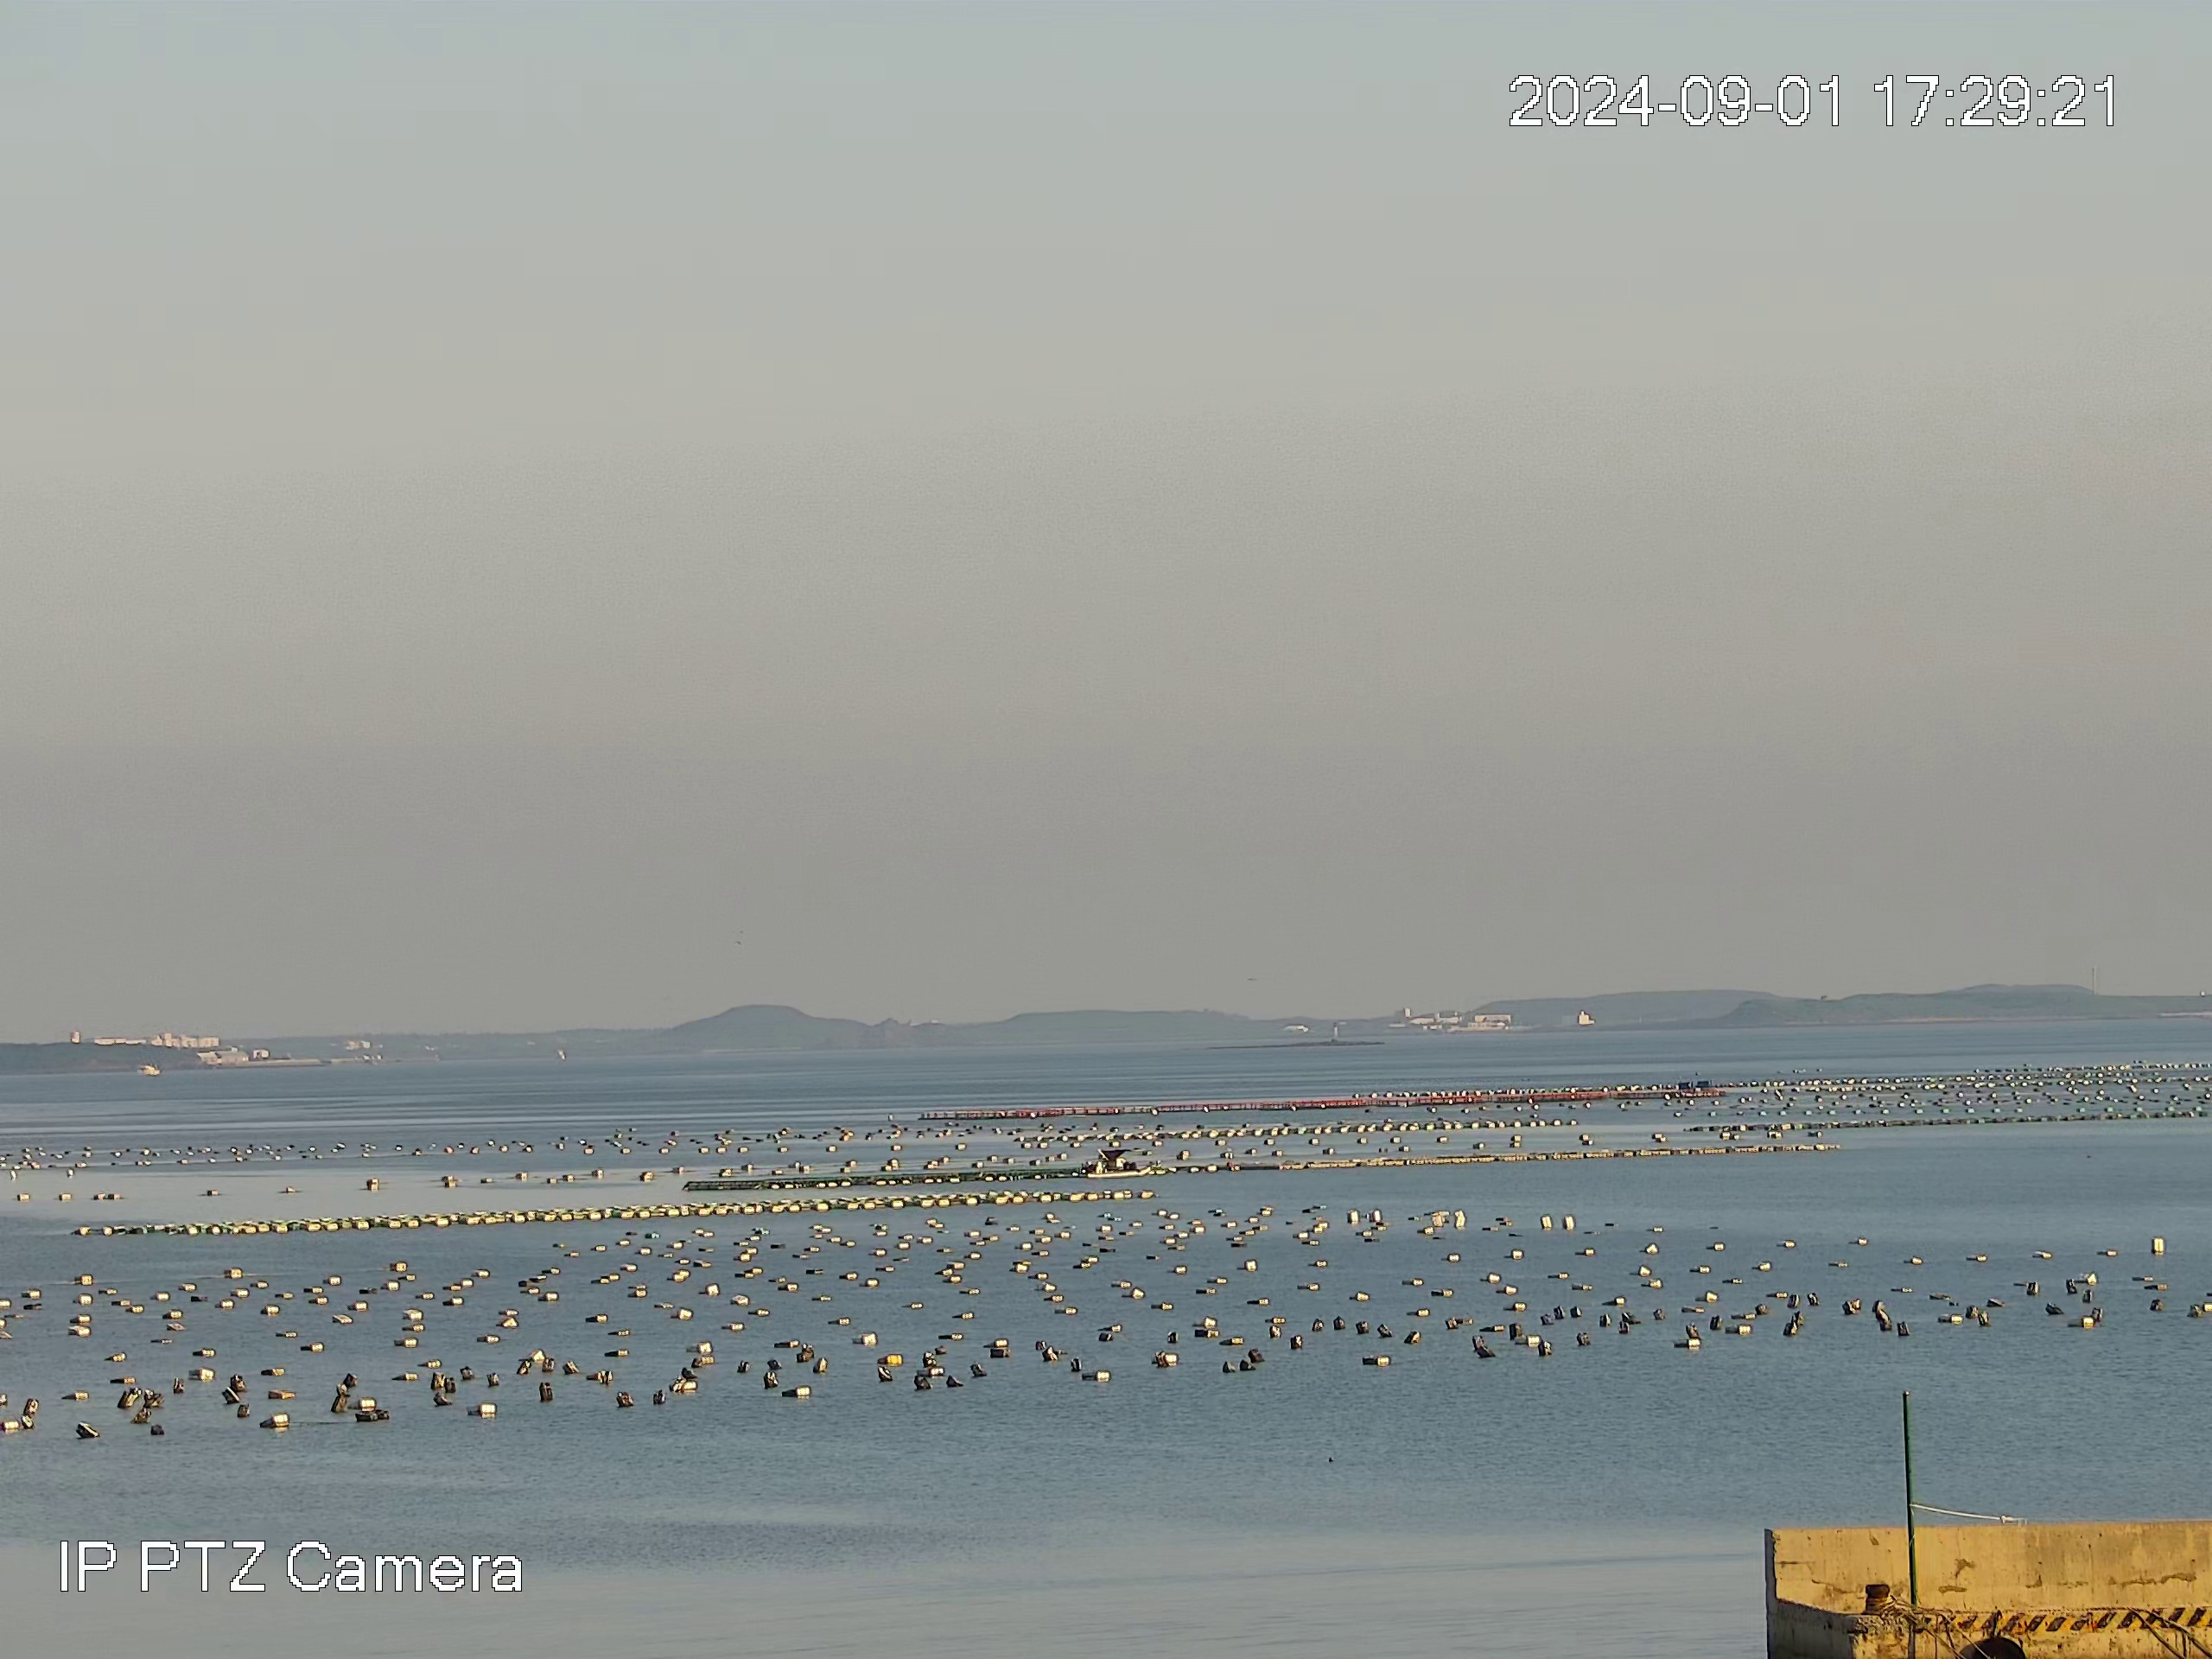boat: (1089, 1145, 1155, 1173)
